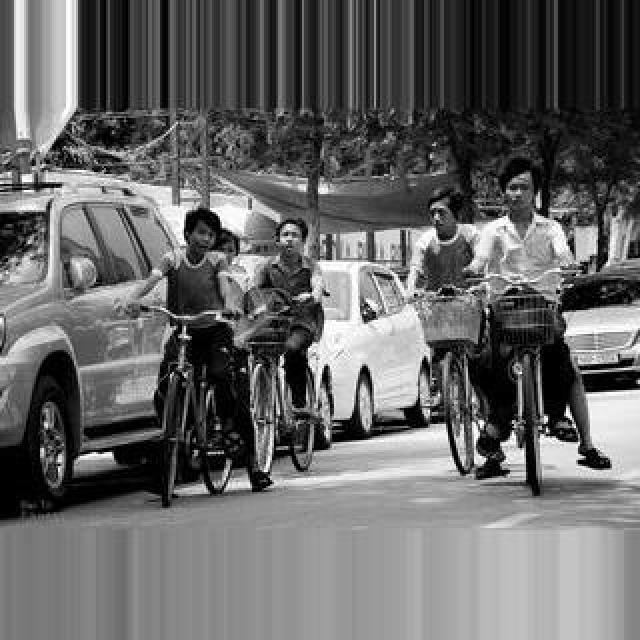Bus-Bike: (2, 182, 188, 508), (308, 262, 436, 438), (558, 260, 640, 388)
MC-Bike: (464, 160, 598, 468), (160, 208, 250, 470), (248, 216, 328, 460), (408, 196, 484, 450), (406, 194, 478, 296), (214, 226, 256, 318)
Person: (452, 270, 596, 496), (138, 304, 242, 504), (246, 326, 318, 480), (432, 332, 488, 476)
Person-Bike: (2, 182, 186, 508)
